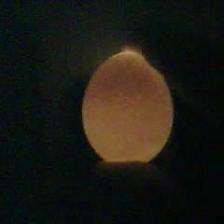infertile: (78, 47, 175, 166)
